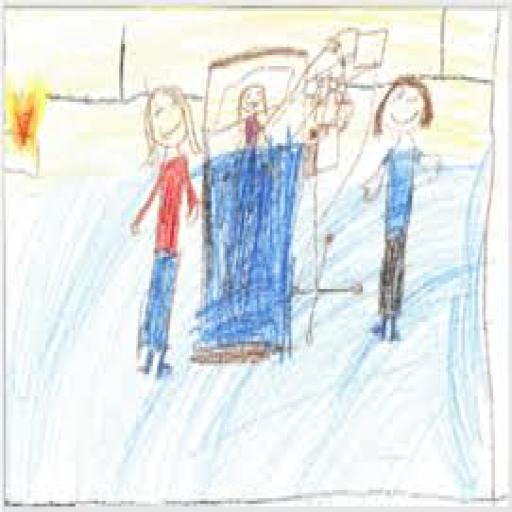person: (353, 61, 451, 359), (126, 78, 212, 382), (223, 77, 306, 171)
